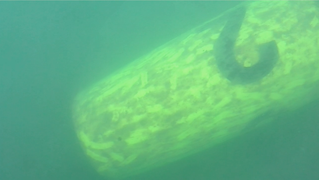2: (195, 4, 279, 84), (239, 105, 289, 136)
pipe: (71, 1, 319, 178)
